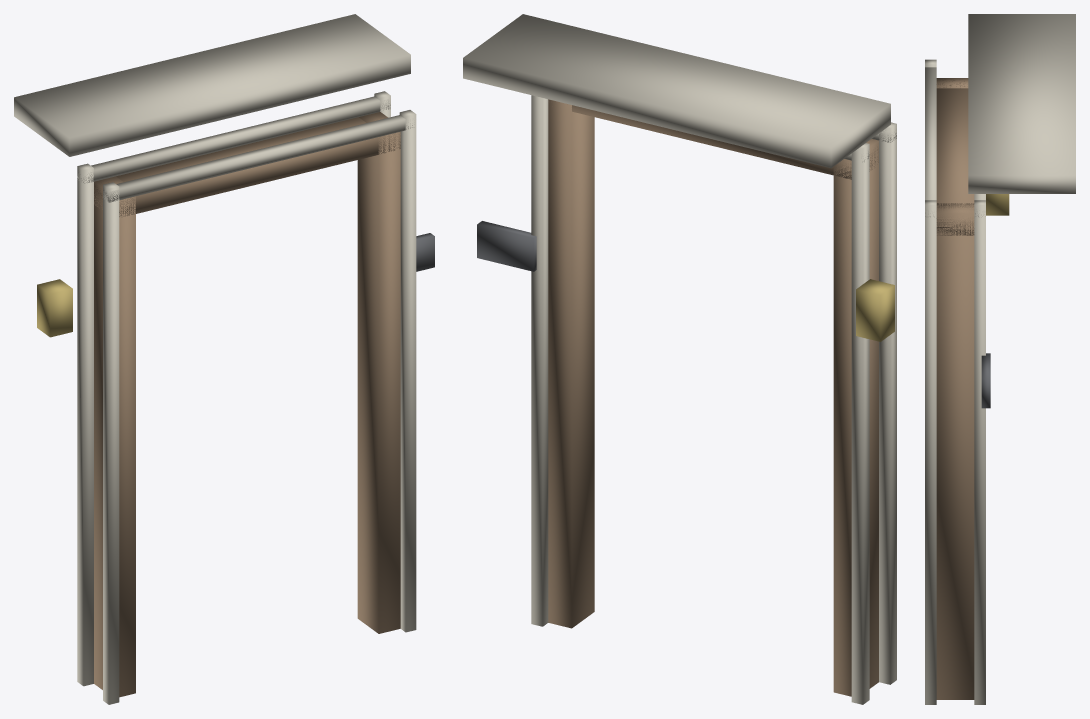
The model's file is doorway_motel_w106_h200_d16.glb.
The picture shows the model from 3 angles, left to right: view 1: azimuth 30°, elevation 25°; view 2: azimuth 150°, elevation 25°; view 3: azimuth 270°, elevation 25°; orthographic projection. The views are drawn at different scales.
Parts seen in each view (by area): view 1: world; view 2: world; view 3: world.
Part boxes in pixels (left/top/right/bottom): world: left=14, top=14, right=434, bottom=704; world: left=463, top=14, right=896, bottom=704; world: left=925, top=14, right=1075, bottom=704.
Bounding box in the file's own units: 1.68 × 2.32 × 0.5889.
